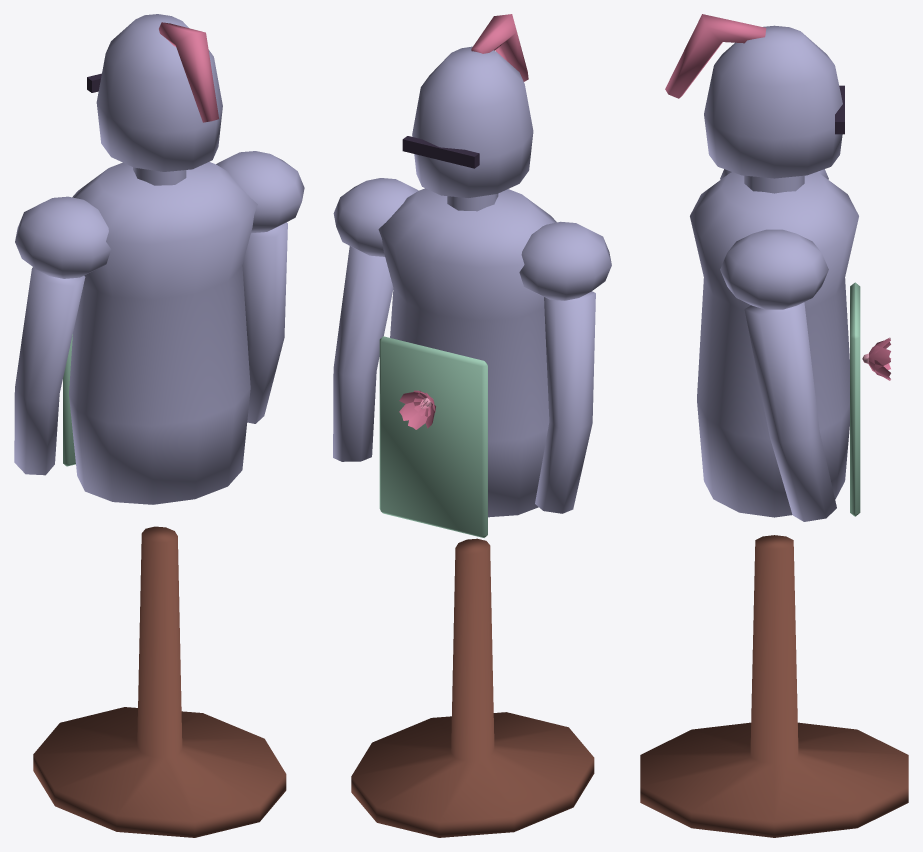
Rendered from armor_stand.glb.
3 views of the same model, side by side, from view 1: azimuth 30°, elevation 25°; view 2: azimuth 150°, elevation 25°; view 3: azimuth 270°, elevation 25° (orthographic). The views are drawn at different scales.
Visible parts, largest first — view 1: armor_stand; view 2: armor_stand; view 3: armor_stand.
Part boxes in pixels (<box>): armor_stand: <box>14,14,304,837</box>; armor_stand: <box>333,14,611,837</box>; armor_stand: <box>640,14,908,837</box>.
Size of what is drawn, in the model's own units: 0.7 by 1.9 by 0.6.
